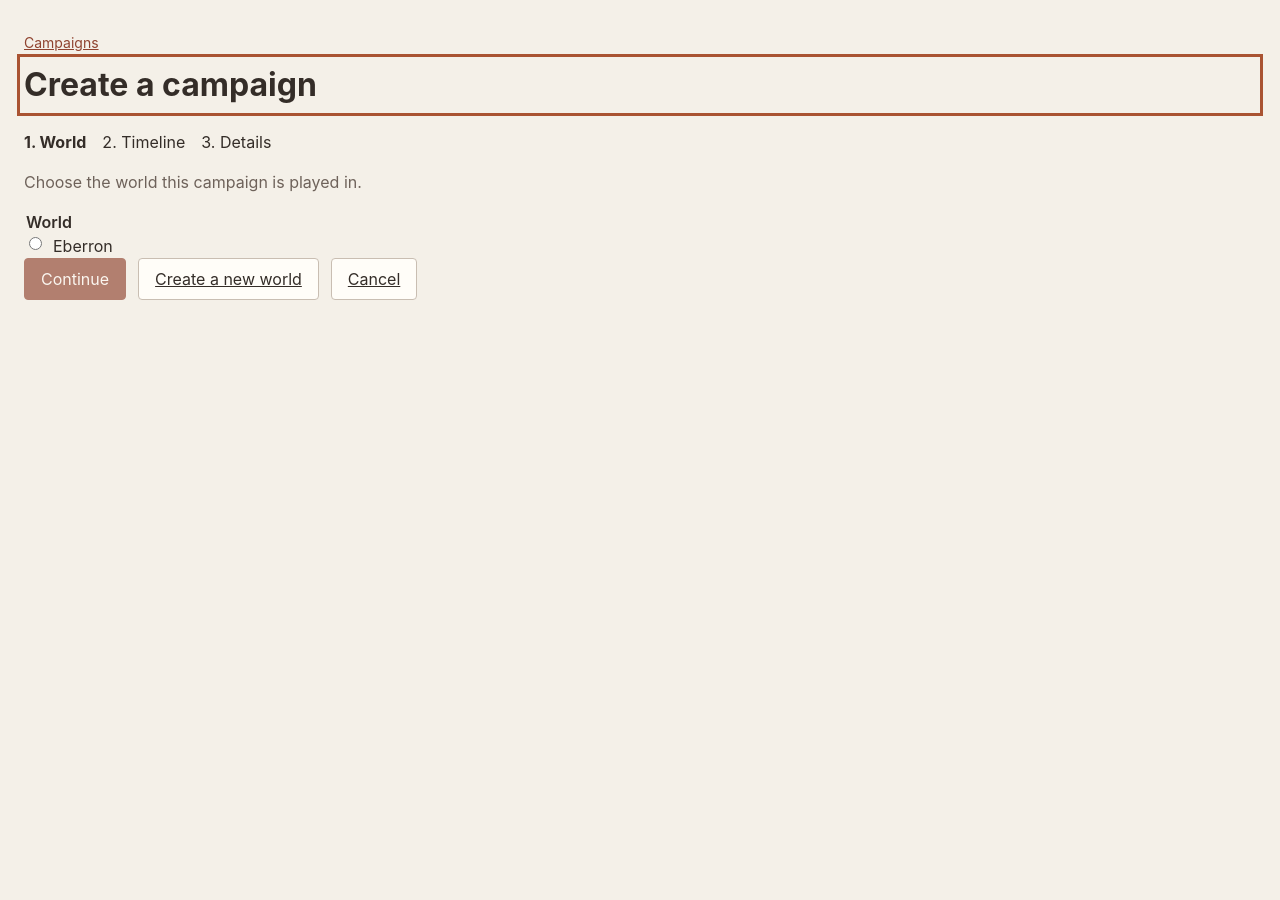
CampaignSetupPage › walks the steps through the URL so Back and refresh resume them
Click the radio button labelled "Eberron": (36, 244) x1=29 y1=237 x2=42 y2=250
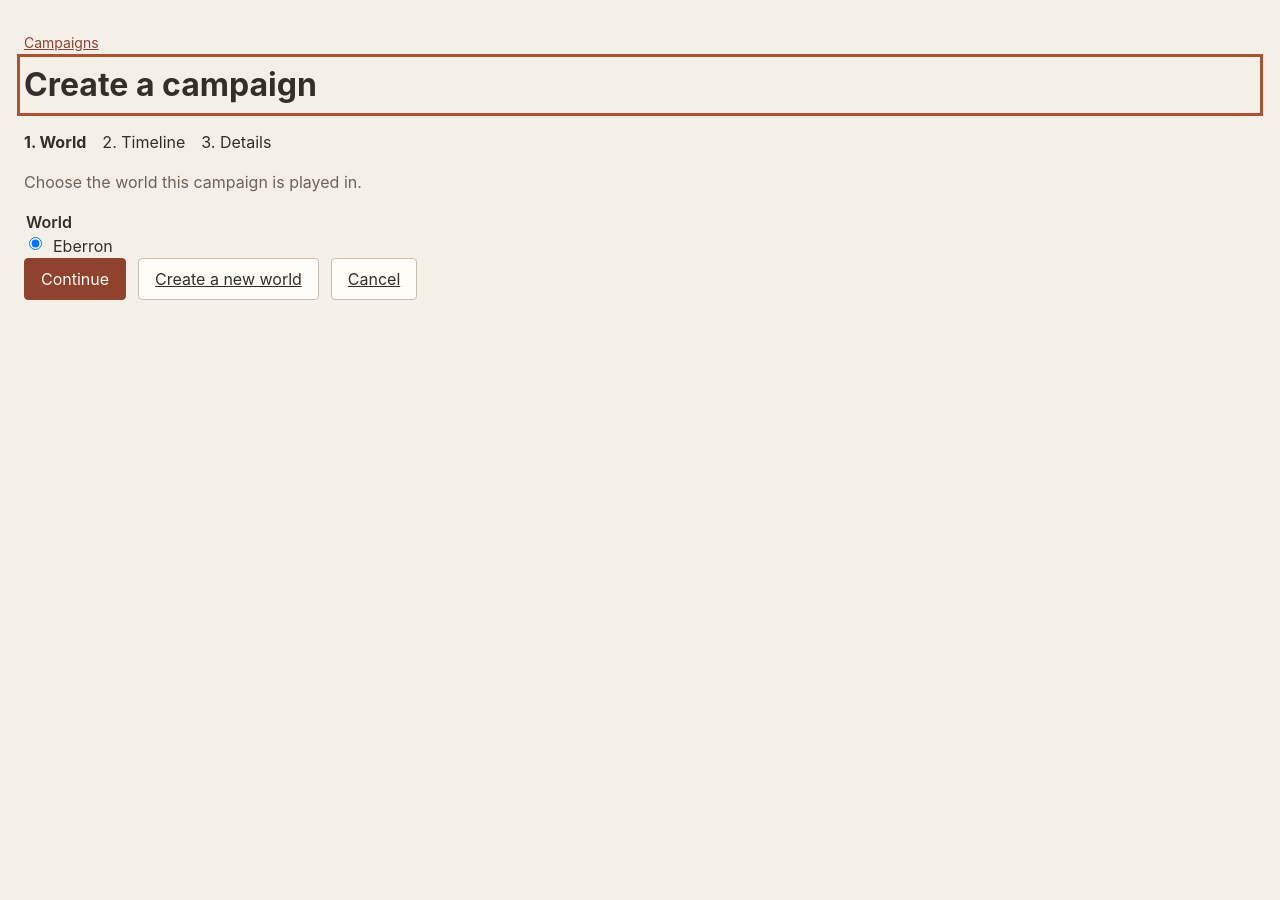
Click the button "Continue": (75, 279) x1=24 y1=258 x2=126 y2=300
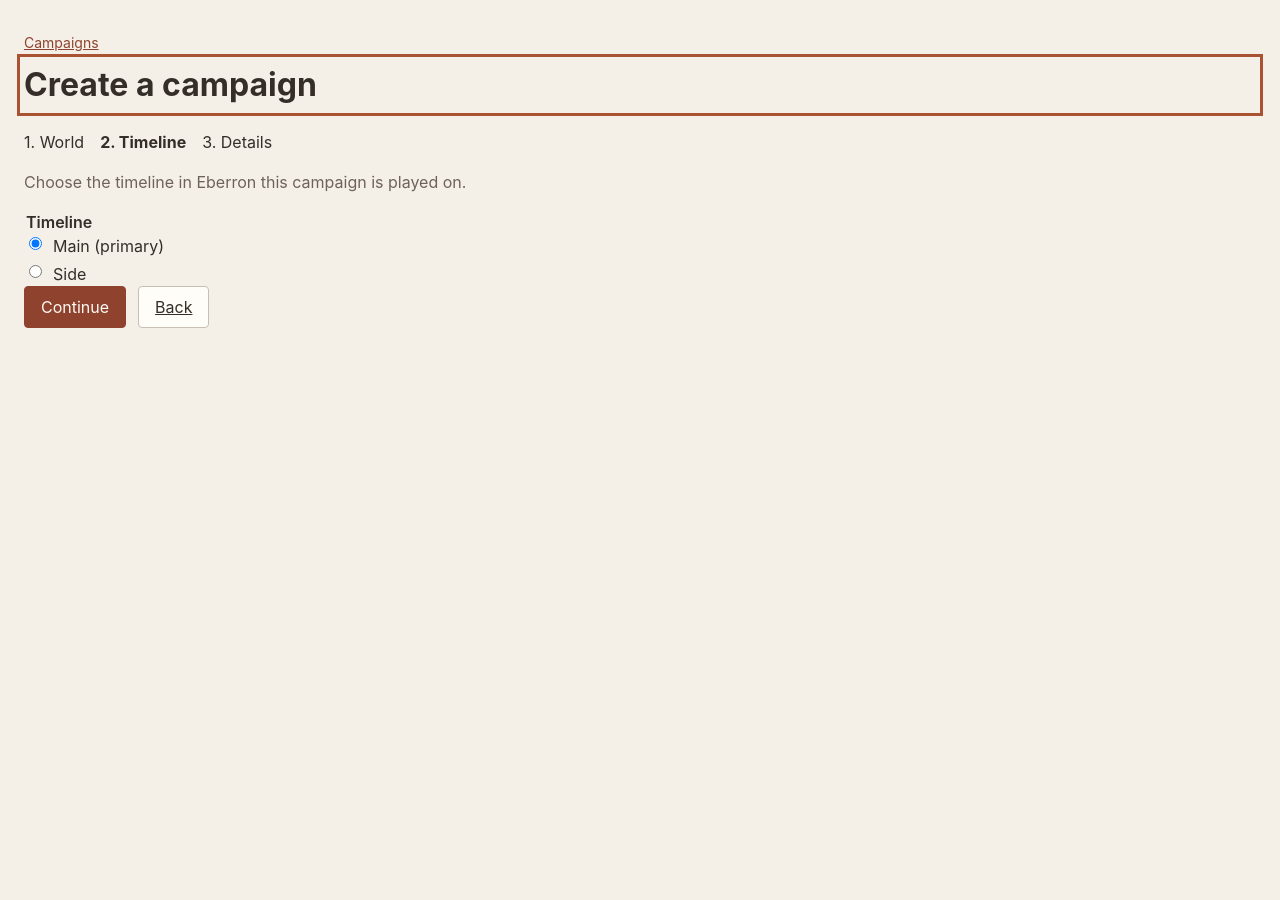
Expected: the radio button labelled "Main (primary)" is checked, x1=29 y1=237 x2=42 y2=250
Click the button "Continue": (75, 307) x1=24 y1=286 x2=126 y2=328
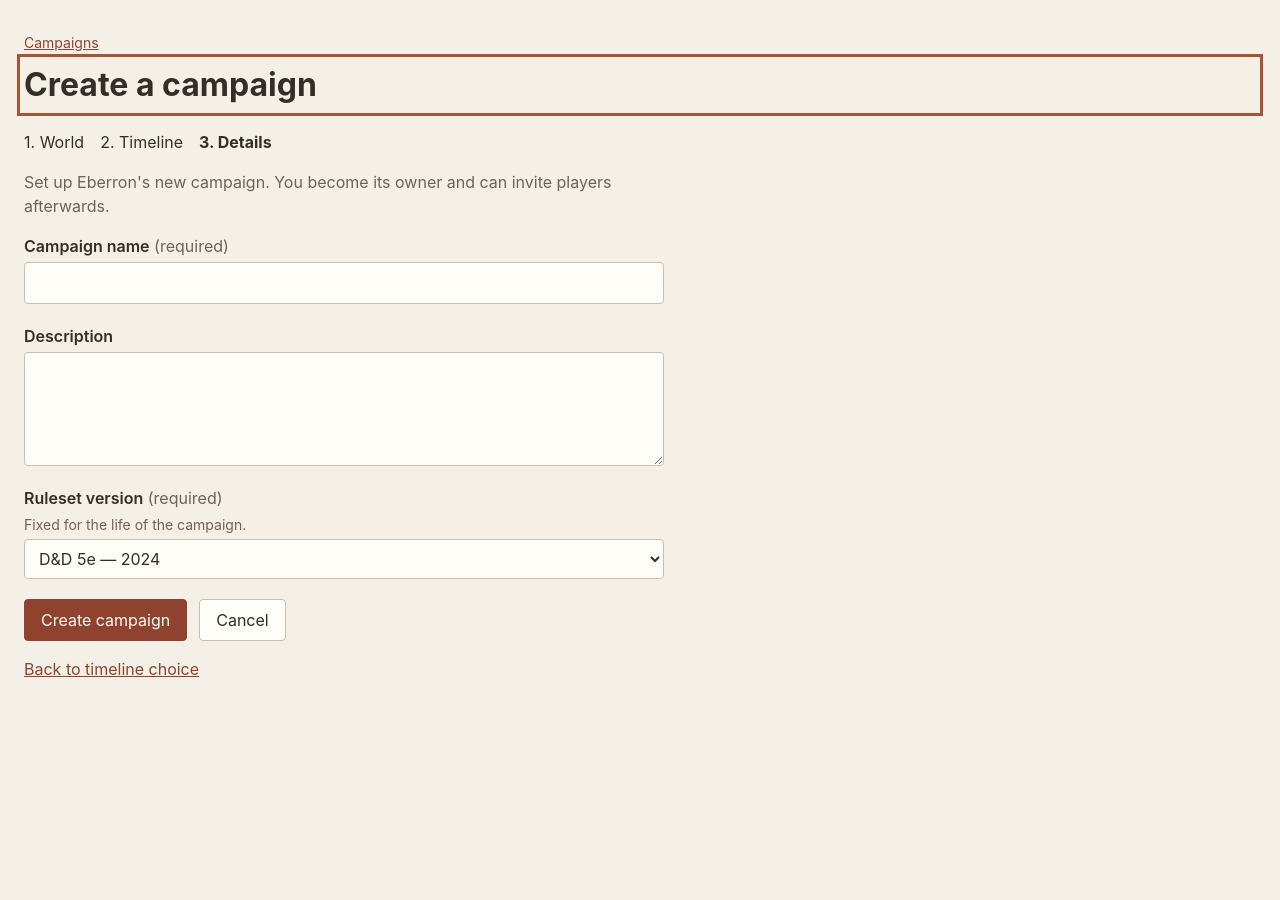
Expected: the list item "3. Details" is shown, x1=199 y1=130 x2=272 y2=154
Result: the field labelled "Campaign name (required)" is shown at x1=24 y1=262 x2=664 y2=304
